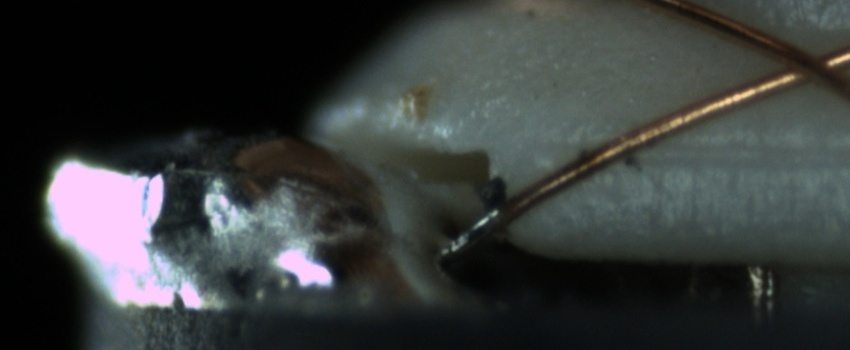CL: (757, 32, 848, 95)
DL: (555, 118, 844, 184)
TS: (438, 204, 504, 260)
